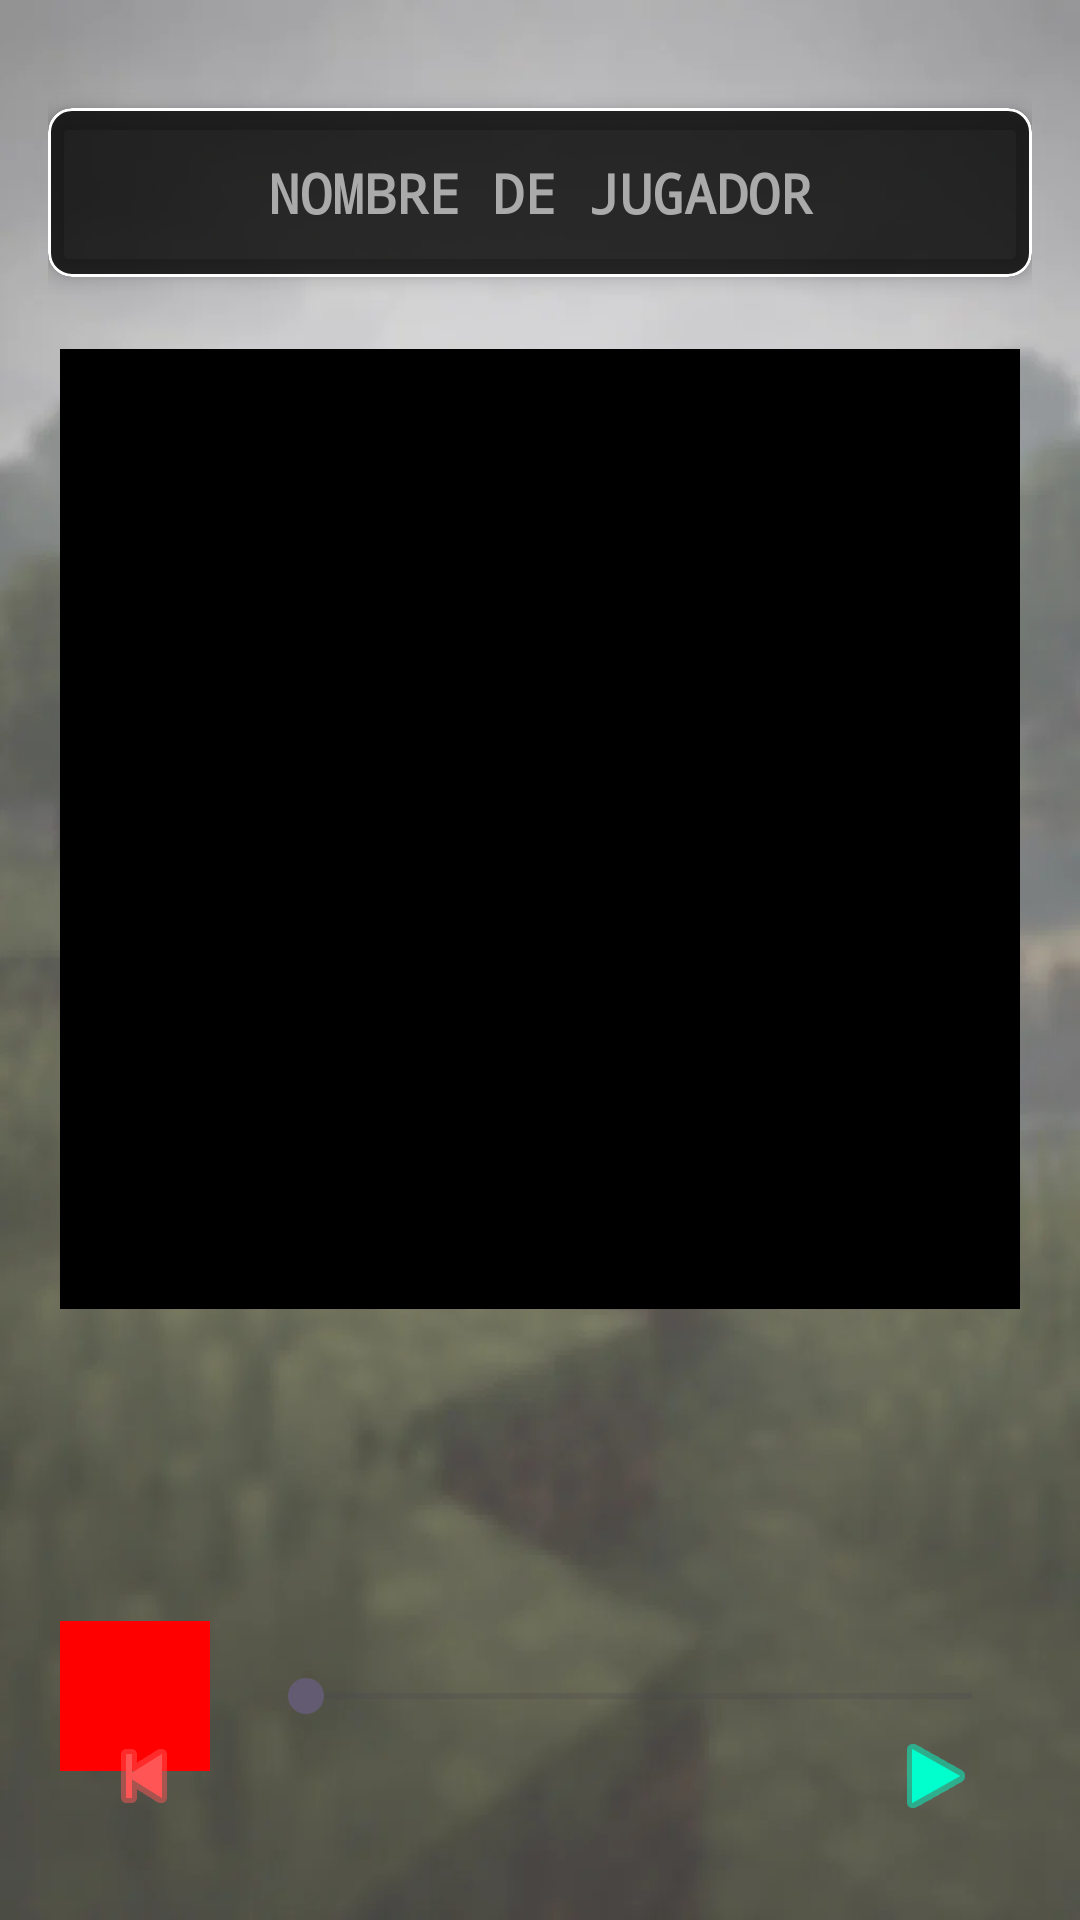

Named icons in this screenshot (1080 x 1920) and their bounding boxes, (x1, y1, x2, y2):
play: (907, 1744, 965, 1808)
